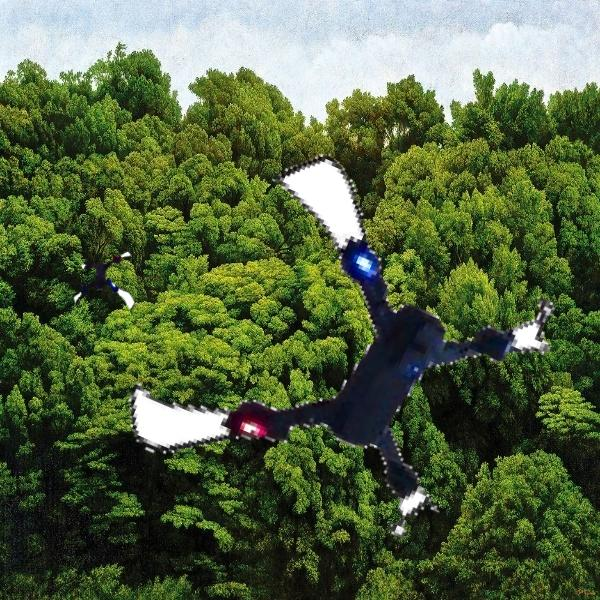drone: (155, 168, 537, 550), (68, 249, 148, 329)
